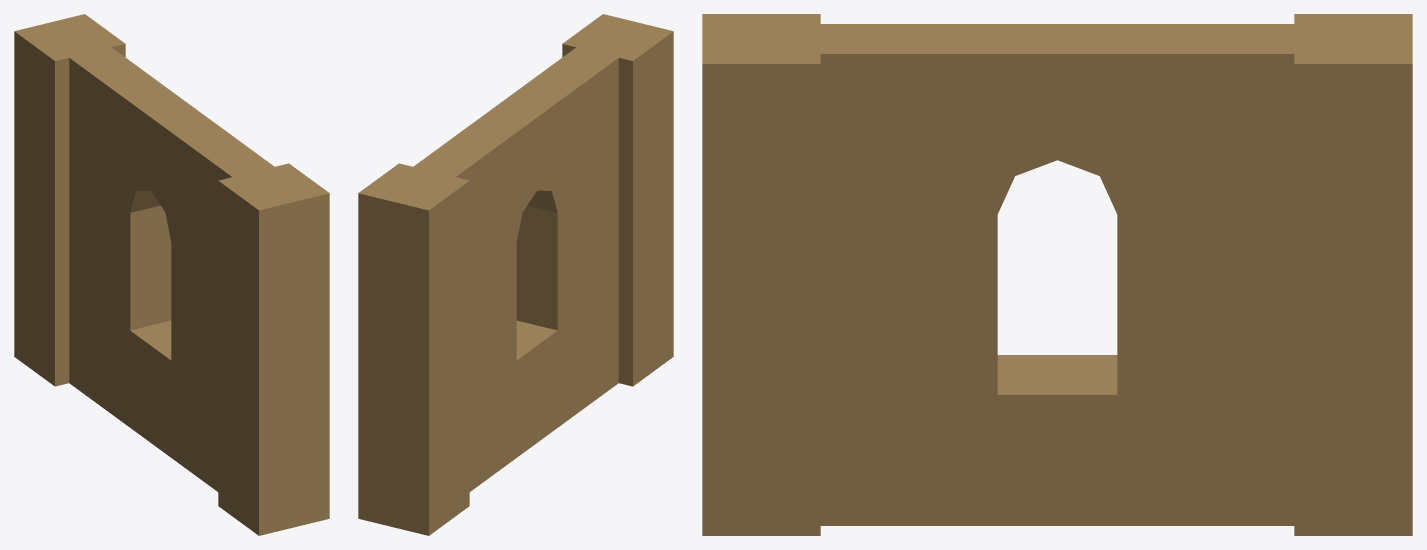
The model's file is wood_window_round_sill_01.glb.
3 views of the same model, side by side, from view 1: azimuth 30°, elevation 25°; view 2: azimuth 150°, elevation 25°; view 3: azimuth 270°, elevation 25° (orthographic). The views are drawn at different scales.
Visible parts, largest first — view 1: Mesh1 Wood_Window_Round_Sill Model; view 2: Mesh1 Wood_Window_Round_Sill Model; view 3: Mesh1 Wood_Window_Round_Sill Model.
Boxes of the visible parts, left/top/right/bottom form: Mesh1 Wood_Window_Round_Sill Model: left=14, top=14, right=329, bottom=535; Mesh1 Wood_Window_Round_Sill Model: left=358, top=14, right=673, bottom=535; Mesh1 Wood_Window_Round_Sill Model: left=702, top=14, right=1412, bottom=535.
Bounding box in the file's own units: 0.5 × 2.2 × 3.
